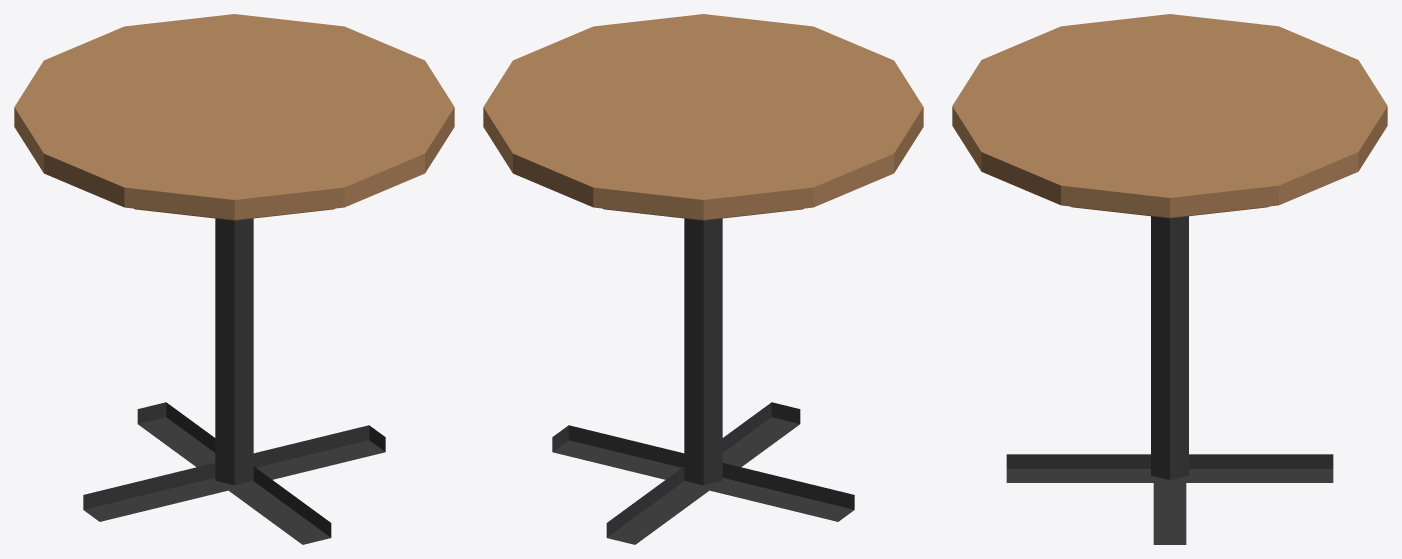
Rendered from cafe_table.glb.
3 renders of one model, left to right at view 1: azimuth 30°, elevation 25°; view 2: azimuth 150°, elevation 25°; view 3: azimuth 270°, elevation 25°, orthographic.
Visible parts, largest first — view 1: body; view 2: body; view 3: body.
Part boxes in pixels (left/top/right/bottom): body: left=14, top=14, right=454, bottom=544; body: left=483, top=14, right=923, bottom=544; body: left=952, top=14, right=1387, bottom=544.
Size of the model in its own units: 0.8 by 0.75 by 0.8.
